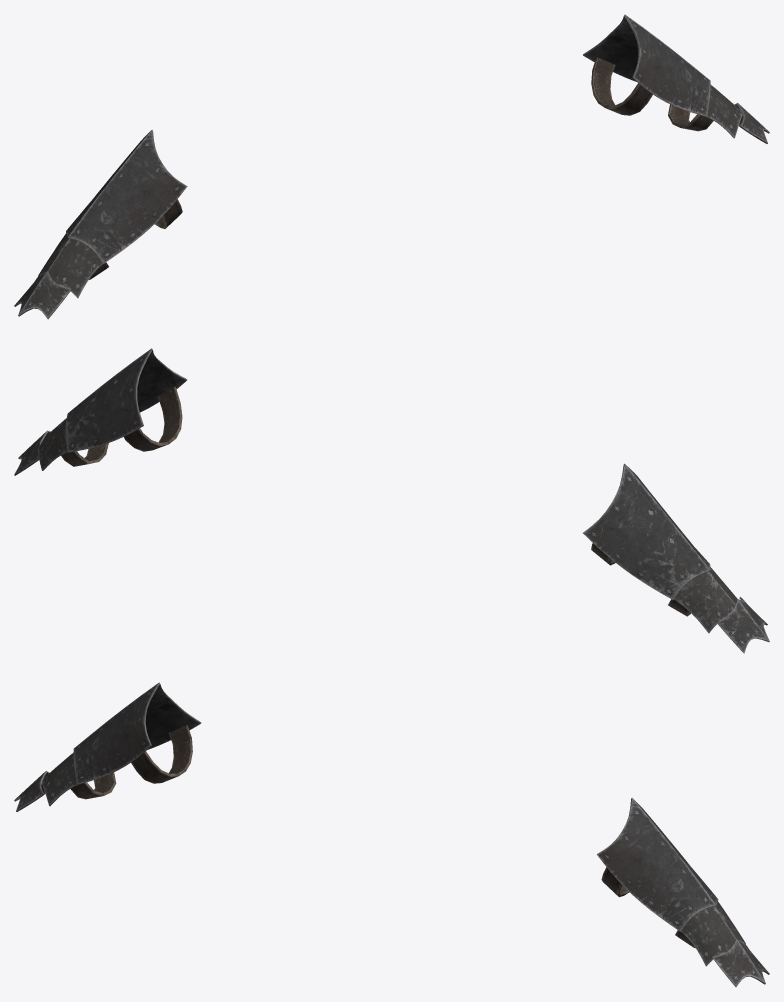
File: sk_uruk_mordor_bracer_heavy_d.fbx
3 views of the same model, one above another, from view 1: azimuth 30°, elevation 25°; view 2: azimuth 150°, elevation 25°; view 3: azimuth 330°, elevation 25° (orthographic).
Visible parts, largest first — view 1: sk_uruk_mordor_bracer_heavy_d.2, sk_uruk_mordor_bracer_heavy_d.0, sk_uruk_mordor_bracer_heavy_d.1; view 2: sk_uruk_mordor_bracer_heavy_d.2, sk_uruk_mordor_bracer_heavy_d.0, sk_uruk_mordor_bracer_heavy_d.1; view 3: sk_uruk_mordor_bracer_heavy_d.2, sk_uruk_mordor_bracer_heavy_d.0, sk_uruk_mordor_bracer_heavy_d.1.
Part boxes in pixels (x1,y1,x2,y2): sk_uruk_mordor_bracer_heavy_d.2: [38, 14, 742, 298]; sk_uruk_mordor_bracer_heavy_d.0: [89, 57, 713, 279]; sk_uruk_mordor_bracer_heavy_d.1: [14, 103, 769, 319]; sk_uruk_mordor_bracer_heavy_d.2: [38, 348, 737, 633]; sk_uruk_mordor_bracer_heavy_d.0: [61, 387, 690, 616]; sk_uruk_mordor_bracer_heavy_d.1: [14, 430, 769, 653]; sk_uruk_mordor_bracer_heavy_d.2: [41, 682, 745, 966]; sk_uruk_mordor_bracer_heavy_d.0: [70, 725, 694, 947]; sk_uruk_mordor_bracer_heavy_d.1: [14, 771, 769, 986].
Bounding box in the file's own units: 1.53 × 0.1676 × 0.2965.
Materials: 3 (3 with a texture image).
